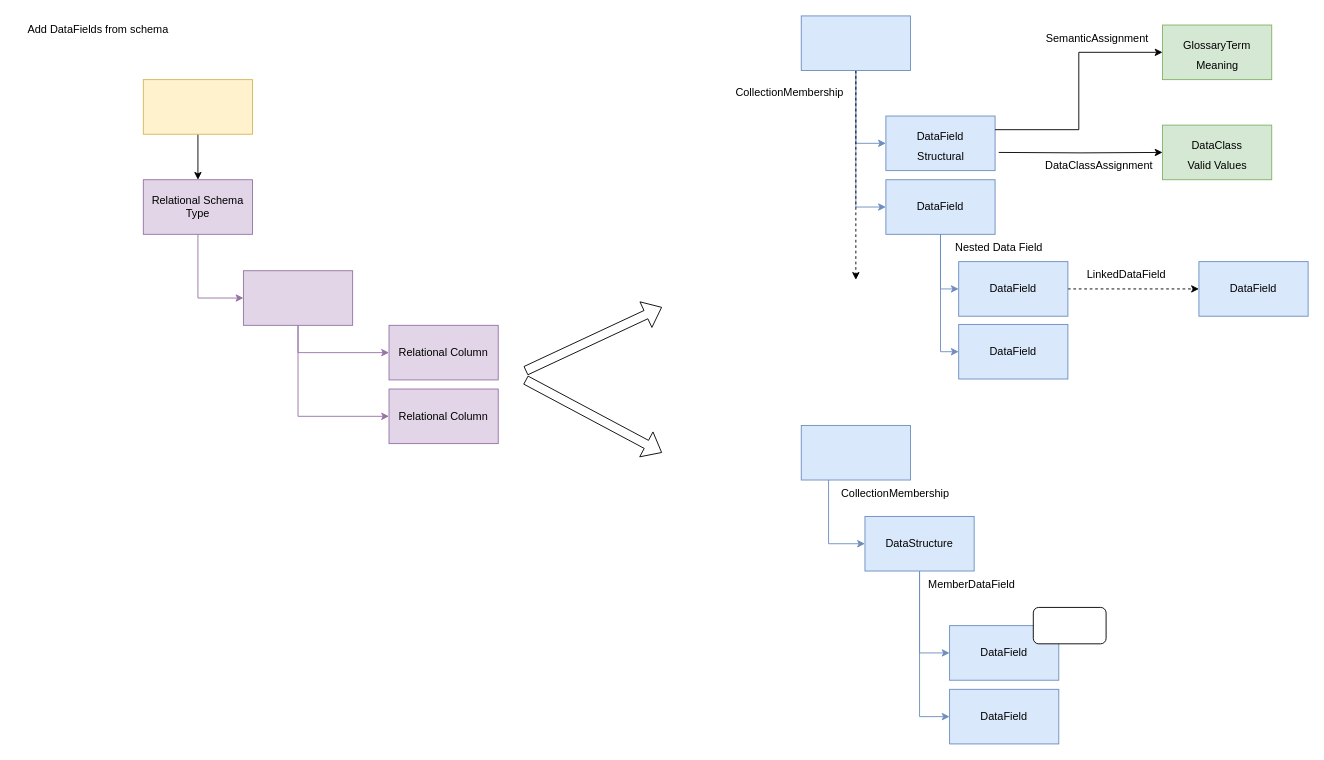
This 1324x760 diagram has some shape labels left out. The centre of each missing label's shape, as x and y in pixels:
DataDictionary: [855,43]
DataSpec: [855,452]
Deployed Database Schema: [197,106]
Object Identifier: [1069,625]
Relational Table: [298,297]
